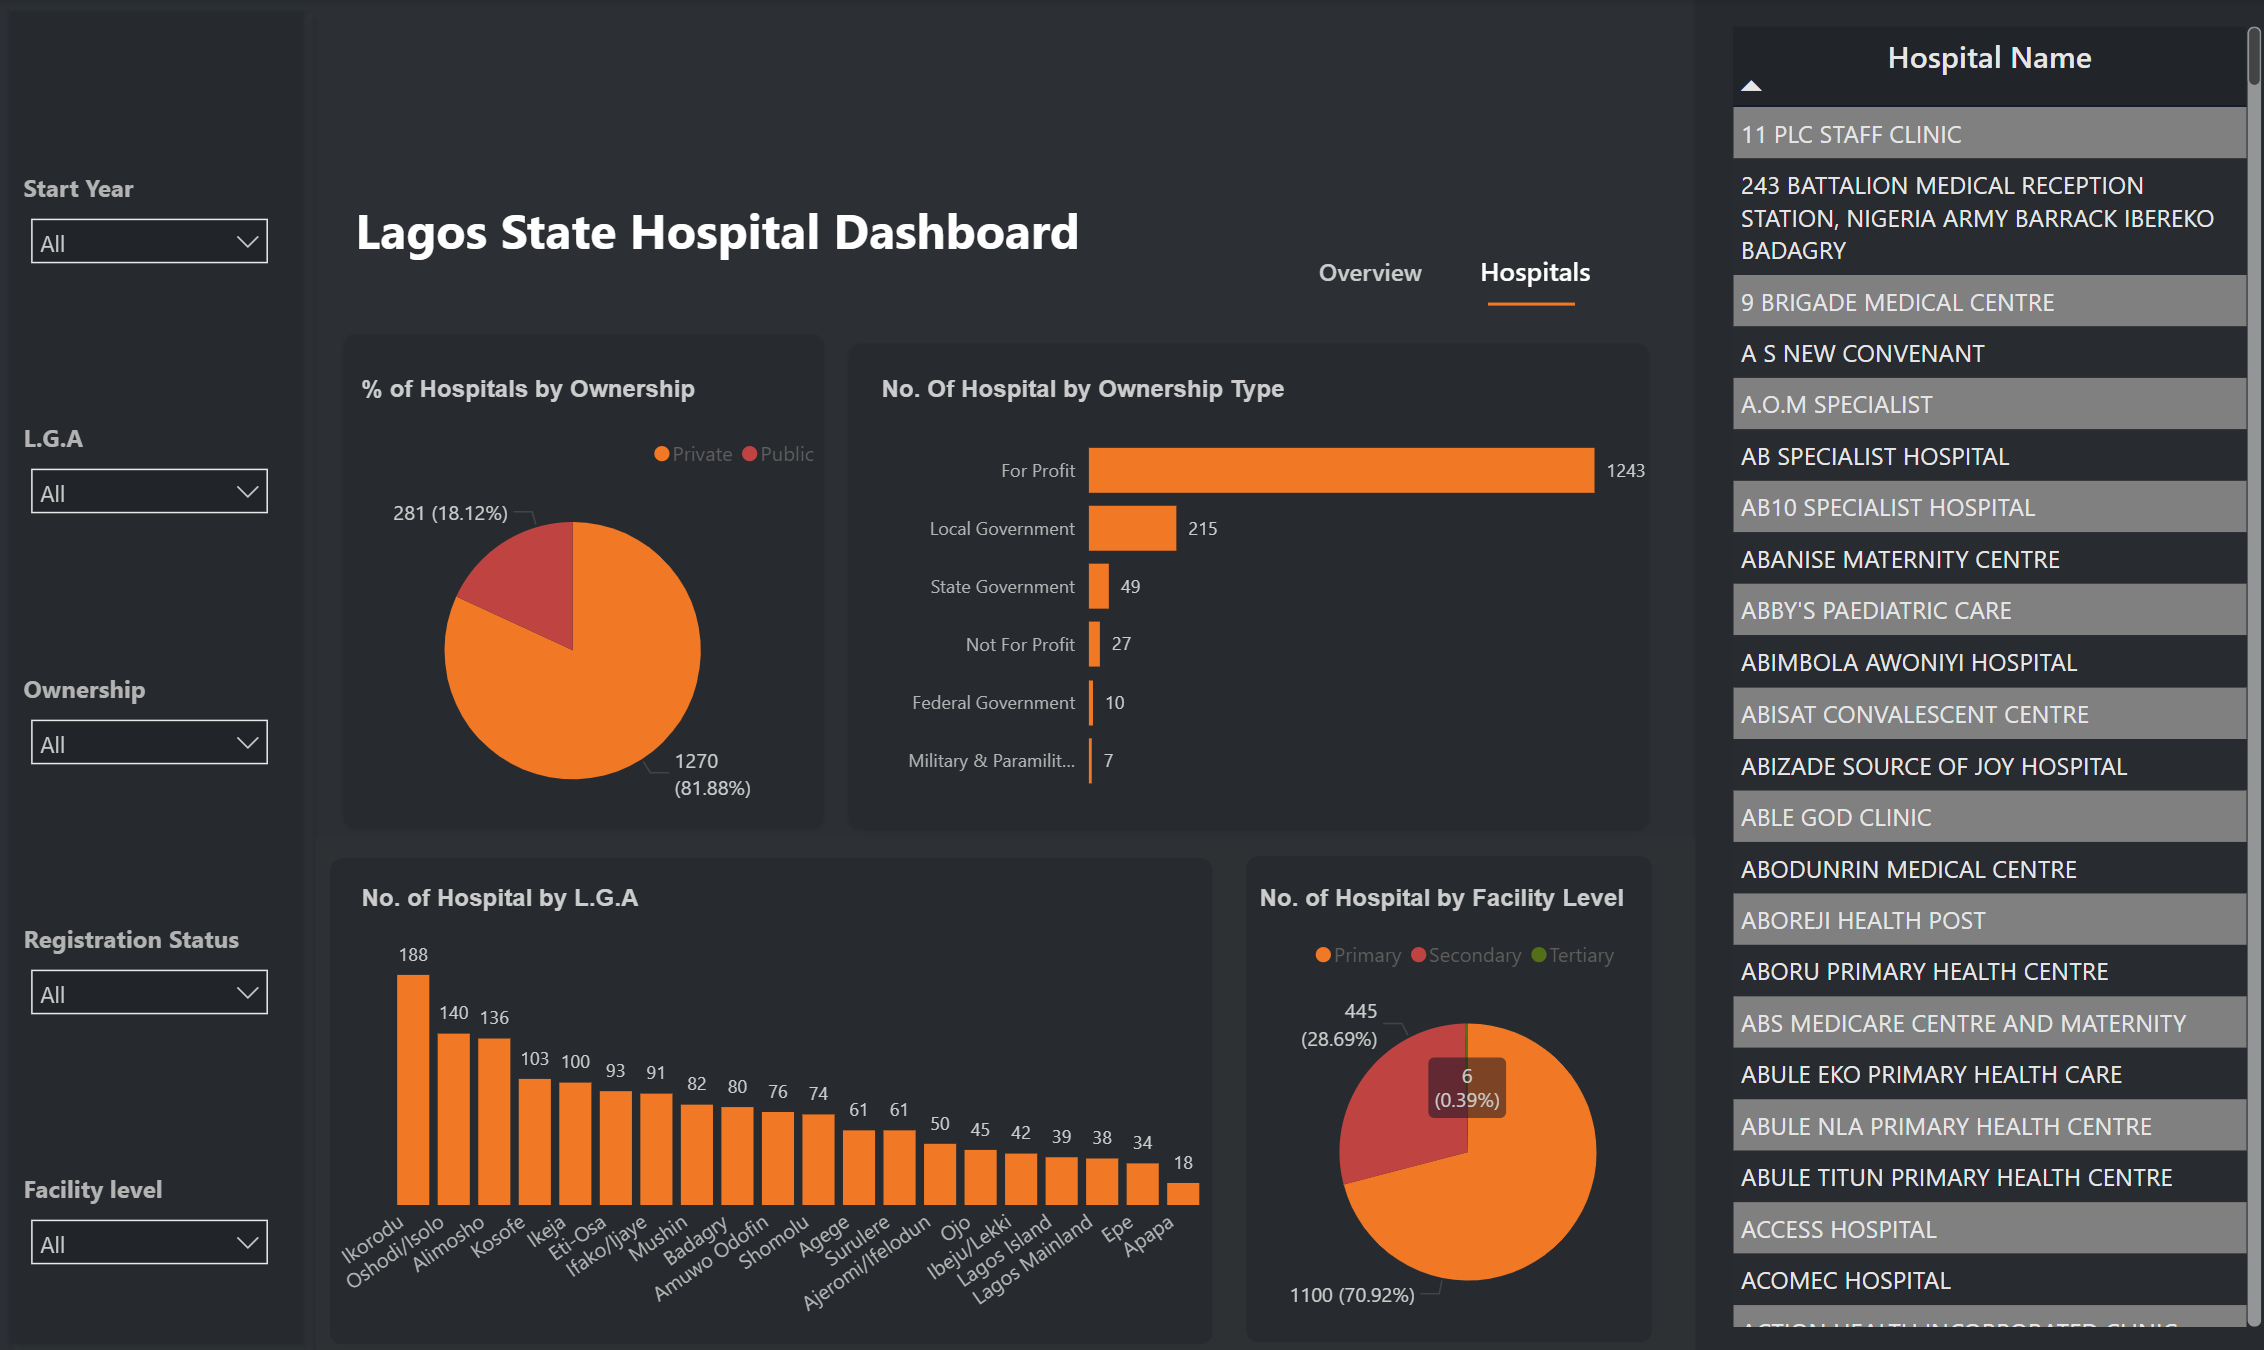

The dashboard page shown, as its layout file describes it:
{"tool":"powerbi","page":{"name":"Hospitals","canvas":[1500,900],"ordinal":1},"visuals":[{"type":"shape","box":[210,553.3,911.7,346.7],"z":0},{"type":"textbox","box":[231.4,125.5,543.1,70.6],"z":1000},{"type":"pageNavigator","box":[845.1,154.9,260.8,51],"z":2000},{"type":"textbox","box":[235.3,243.1,313.7,49],"z":3000},{"type":"textbox","box":[578.4,243.1,315.7,49],"z":4000},{"type":"pieChart","fields":{"Y":["Count(hospital_data.facility_uid)"],"Category":["hospital_data.ownership"]},"box":[209.8,280.4,339.2,270.6],"z":5000},{"type":"barChart","fields":{"Y":["Count(hospital_data.facility_uid)"],"Category":["hospital_data.ownership_type"]},"box":[578.4,268.6,515.7,270.6],"z":6000},{"type":"shape","box":[984.6,192.3,57.7,17.3],"z":7000},{"type":"slicer","title":"Ownership","fields":{"Values":["hospital_data.ownership"]},"box":[11.8,444.1,176.5,74.5],"z":8000},{"type":"slicer","title":"L.G.A","fields":{"Values":["hospital_data.lga"]},"box":[11.8,278.9,176.5,74.5],"z":9000},{"type":"slicer","title":"Facility level","fields":{"Values":["hospital_data.facility_level"]},"box":[11.8,774.5,176.5,74.5],"z":10000},{"type":"slicer","title":"Registration Status","fields":{"Values":["hospital_data.registration_status"]},"box":[11.8,609.3,176.5,74.5],"z":11000},{"type":"slicer","title":"Start Year","fields":{"Values":["hospital_data.start_date.Variation.Date Hierarchy.Year"]},"box":[11.8,113.7,176.5,74.5],"z":12000},{"type":"shape","box":[1121.6,0,378.4,900],"z":13000},{"type":"tableEx","fields":{"Values":["hospital_data.facility_name"]},"box":[1140,13.3,360,868.3],"z":14000},{"type":"shape","box":[825,565,268.3,321.7],"z":15000},{"type":"pieChart","fields":{"Category":["hospital_data.facility_level"],"Y":["Count(hospital_data.facility_uid)"]},"box":[801.7,610,338.3,271.7],"z":16000},{"type":"shape","box":[220,566.7,583.3,321.7],"z":17000},{"type":"columnChart","fields":{"Y":["Count(hospital_data.facility_uid)"],"Category":["hospital_data.lga"]},"box":[218.3,608.3,591.7,273.3],"z":18000},{"type":"textbox","box":[235.3,578.4,268.6,49],"z":19000},{"type":"textbox","box":[828.3,578.3,268.3,48.3],"z":20000}]}

Visuals, with their boxes in screenshot pixels (x1, y1, x2, y2), scaled from the page's 1500x900 canvas onto the 2264x1350 screenshot:
shape: detection(317, 830, 1693, 1349)
textbox: detection(349, 188, 1169, 294)
pageNavigator: detection(1276, 232, 1669, 309)
textbox: detection(355, 365, 829, 438)
textbox: detection(873, 365, 1349, 438)
pieChart - Count(hospital_data.facility_uid) x hospital_data.ownership: detection(317, 421, 829, 826)
barChart - Count(hospital_data.facility_uid) x hospital_data.ownership_type: detection(873, 403, 1651, 809)
shape: detection(1486, 288, 1573, 314)
"Ownership" slicer: detection(18, 666, 284, 778)
"L.G.A" slicer: detection(18, 418, 284, 530)
"Facility level" slicer: detection(18, 1162, 284, 1274)
"Registration Status" slicer: detection(18, 914, 284, 1026)
"Start Year" slicer: detection(18, 171, 284, 282)
shape: detection(1693, 0, 2263, 1349)
tableEx - hospital_data.facility_name: detection(1721, 20, 2263, 1322)
shape: detection(1245, 848, 1650, 1330)
pieChart - hospital_data.facility_level x Count(hospital_data.facility_uid): detection(1210, 915, 1721, 1323)
shape: detection(332, 850, 1212, 1333)
columnChart - Count(hospital_data.facility_uid) x hospital_data.lga: detection(329, 912, 1223, 1322)
textbox: detection(355, 868, 761, 941)
textbox: detection(1250, 867, 1655, 940)
